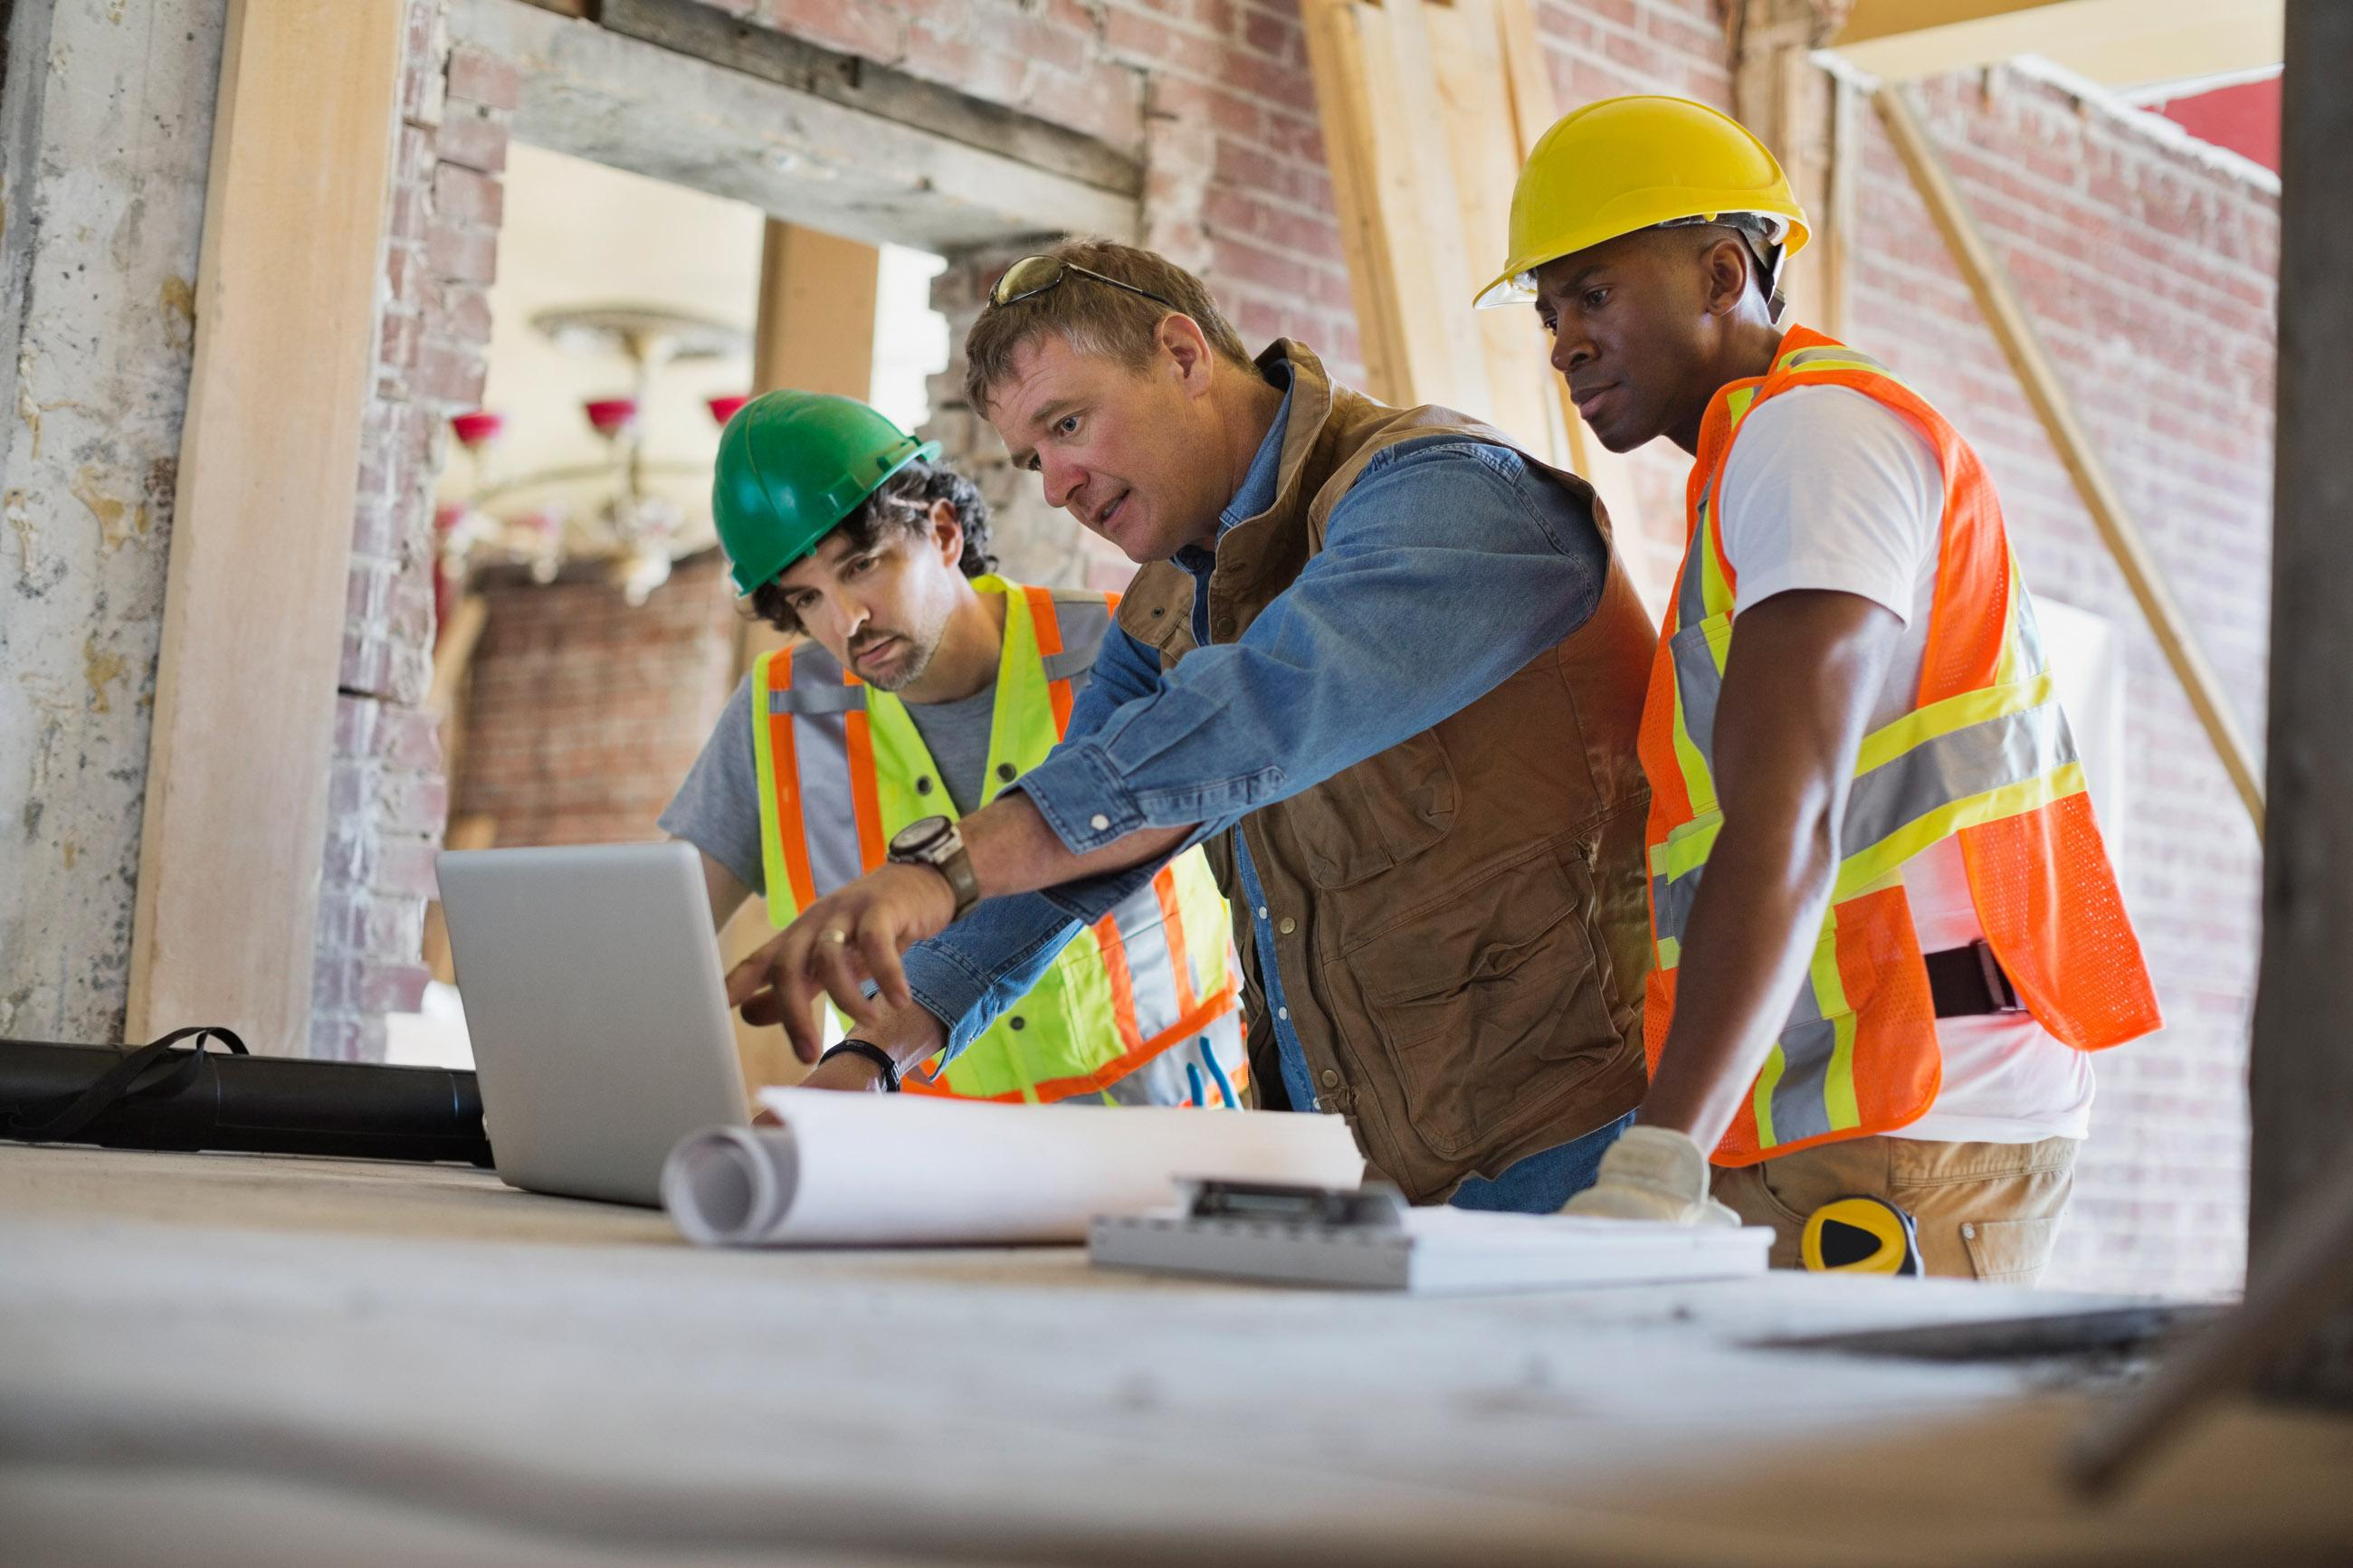helmet: (1468, 93, 1816, 318), (703, 387, 939, 595)
